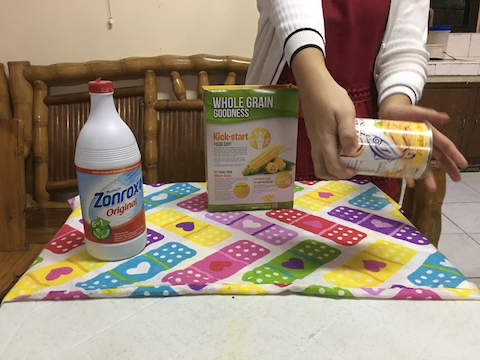bottle: (73, 78, 154, 266)
box: (199, 80, 303, 214)
can: (334, 113, 439, 181)
grab: (309, 96, 364, 185)
